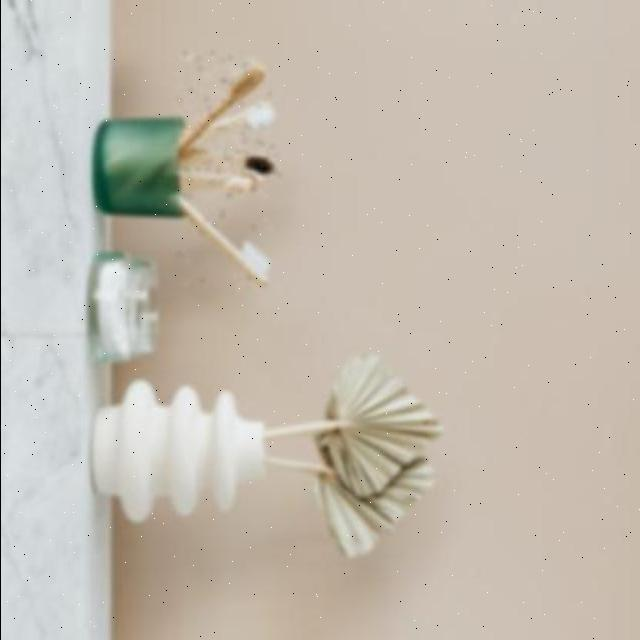toothbrush: (175, 52, 268, 160), (173, 205, 277, 291), (175, 96, 281, 150), (175, 138, 281, 180), (172, 162, 266, 198)
